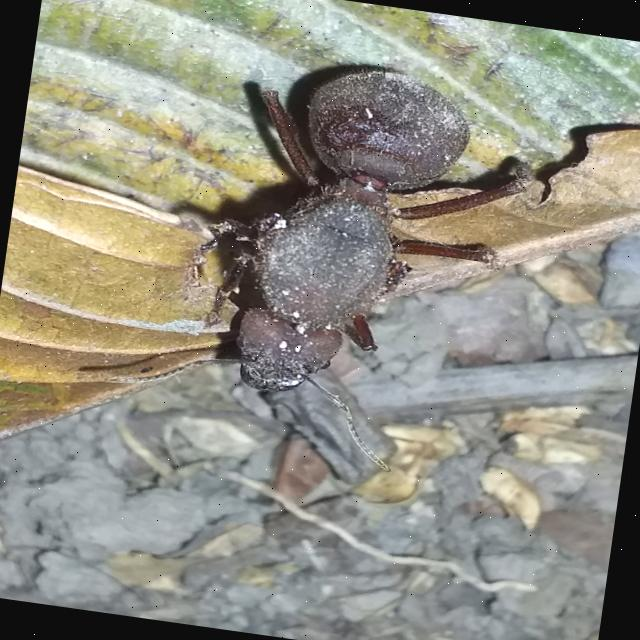Alive-Female-Dealate: (96, 35, 548, 488)
